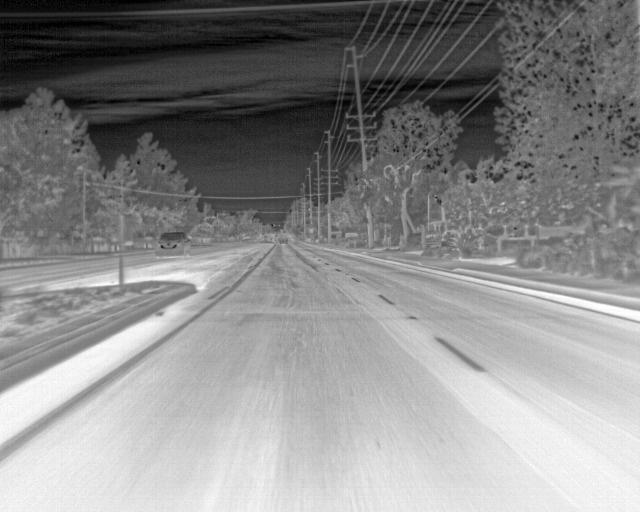car: (155, 232, 191, 258), (276, 234, 288, 246)
